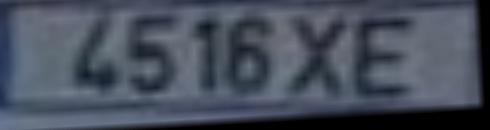1: (190, 16, 226, 106)
4: (66, 15, 126, 104)
5: (126, 13, 185, 102)
6: (225, 12, 279, 103)
E: (353, 12, 421, 106)
X: (285, 16, 355, 106)
